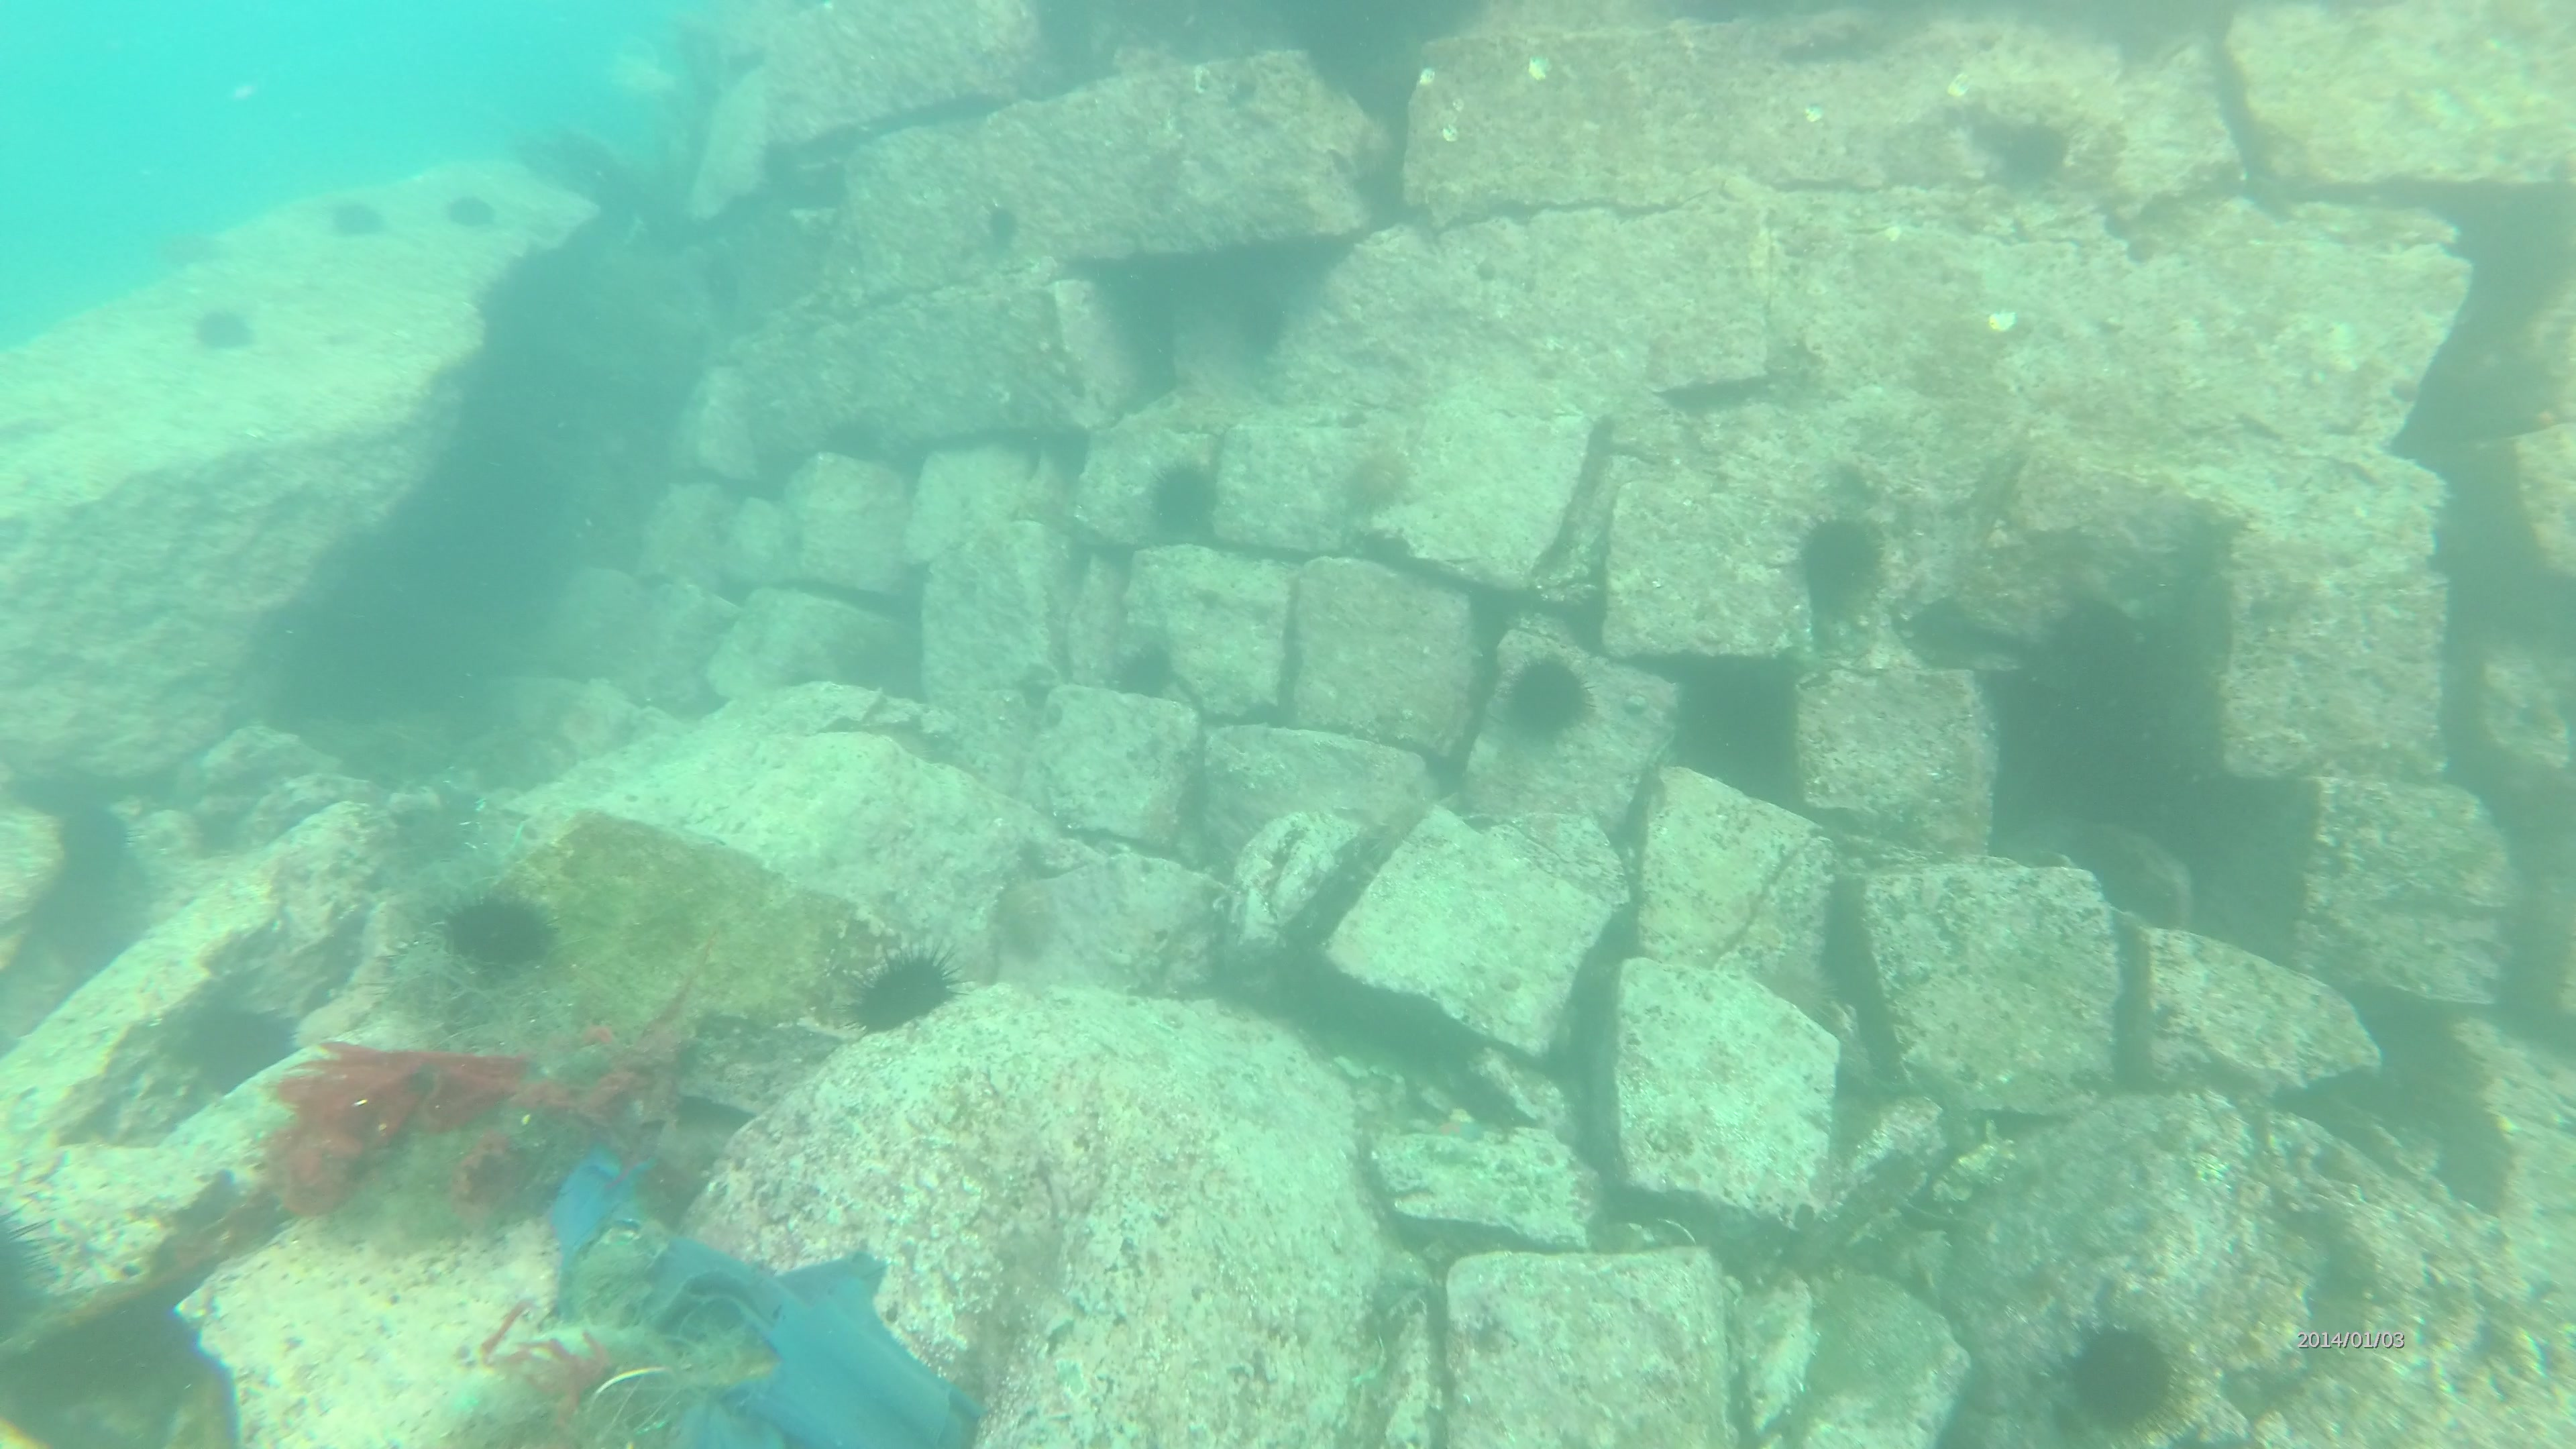echinus: (428, 885, 566, 980), (2061, 1322, 2176, 1433), (2040, 589, 2148, 708), (842, 945, 957, 1039), (1792, 511, 1893, 610), (1134, 455, 1231, 554), (1502, 648, 1596, 741), (1332, 448, 1430, 525), (1997, 110, 2077, 198), (991, 867, 1062, 964), (1108, 630, 1185, 713), (1904, 593, 1982, 672), (53, 801, 134, 878), (812, 409, 892, 469), (697, 258, 755, 324), (186, 304, 257, 356), (326, 195, 391, 248), (441, 186, 499, 237), (982, 198, 1028, 258)
